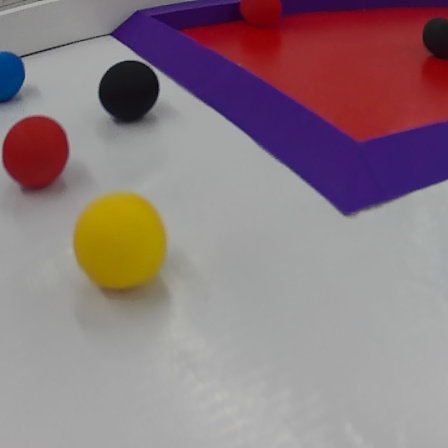black: (98, 56, 160, 124), (418, 13, 448, 63)
blue: (0, 43, 28, 101)
red: (2, 113, 72, 192), (233, 0, 287, 30)
red_aim: (111, 3, 448, 217)
yellow: (72, 192, 168, 292)
